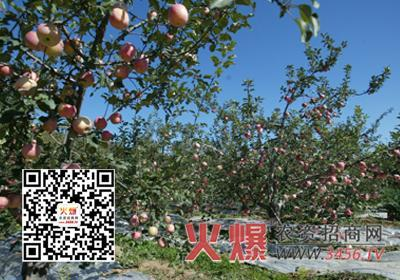apple: (37, 21, 61, 43), (109, 7, 129, 29), (167, 4, 188, 24), (119, 42, 137, 61), (72, 116, 91, 134), (25, 30, 43, 48), (56, 102, 76, 118), (132, 57, 148, 73), (42, 116, 57, 131), (93, 116, 105, 129), (62, 40, 73, 54), (109, 113, 121, 124)
